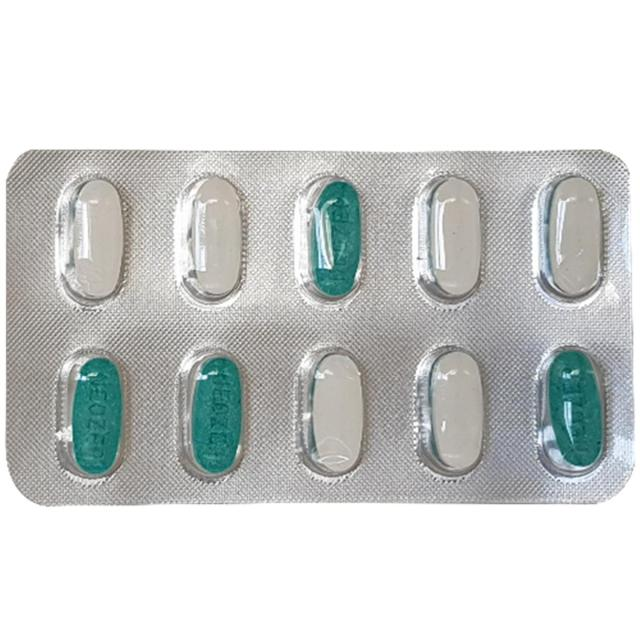blister: (2, 142, 637, 508)
